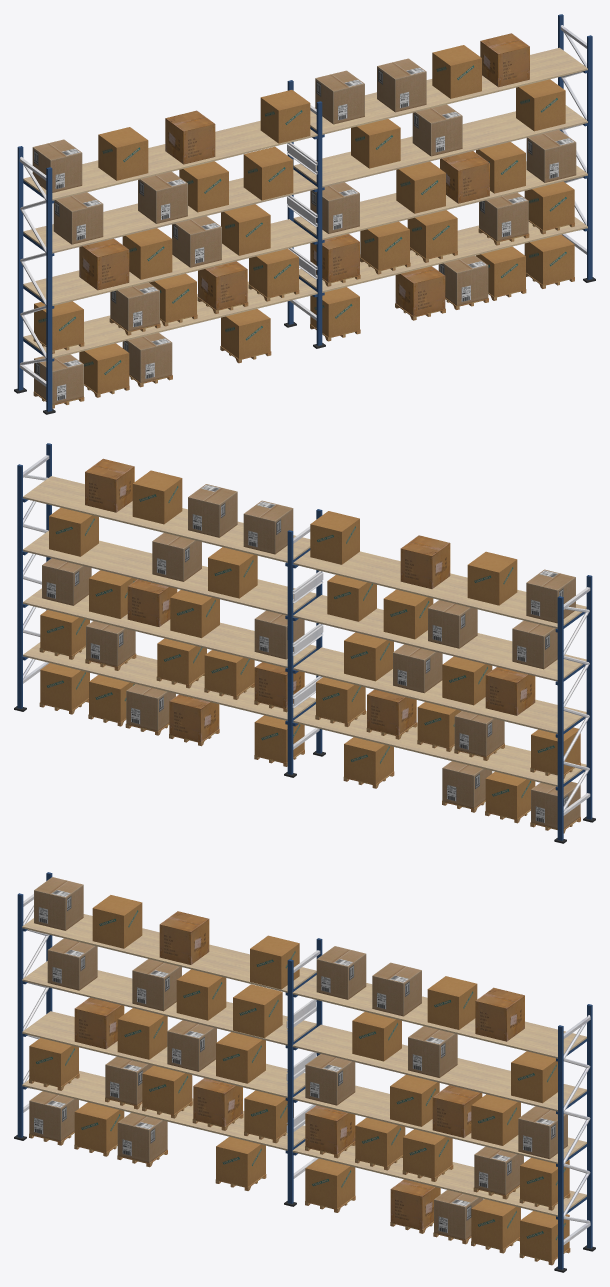
The model's file is BigStorage-transformed.glb.
3 renders of one model, top to bottom at view 1: azimuth 30°, elevation 25°; view 2: azimuth 150°, elevation 25°; view 3: azimuth 330°, elevation 25°, orthographic.
Parts seen in each view (by area): view 1: Cardboard_box08, Cardboard_box07, BigShelves01, BigShelvesWoodBox; view 2: BigShelves01, Cardboard_box08, Cardboard_box07, BigShelvesWoodBox; view 3: Cardboard_box08, Cardboard_box07, BigShelves01, BigShelvesWoodBox.
Boxes of the visible parts, x1,y1,x2,y2 form: Cardboard_box08: [34, 45, 574, 393]; Cardboard_box07: [32, 33, 576, 404]; BigShelves01: [14, 14, 595, 414]; BigShelvesWoodBox: [33, 220, 574, 408]; BigShelves01: [14, 443, 595, 843]; Cardboard_box08: [40, 470, 580, 818]; Cardboard_box07: [42, 458, 580, 828]; BigShelvesWoodBox: [39, 645, 580, 833]; Cardboard_box08: [29, 895, 569, 1261]; Cardboard_box07: [29, 877, 567, 1240]; BigShelves01: [14, 872, 595, 1272]; BigShelvesWoodBox: [29, 1073, 570, 1265].
Size of the model in its own units: 17.75 by 7.59 by 1.82.
Materials: 8 (8 with a texture image).
